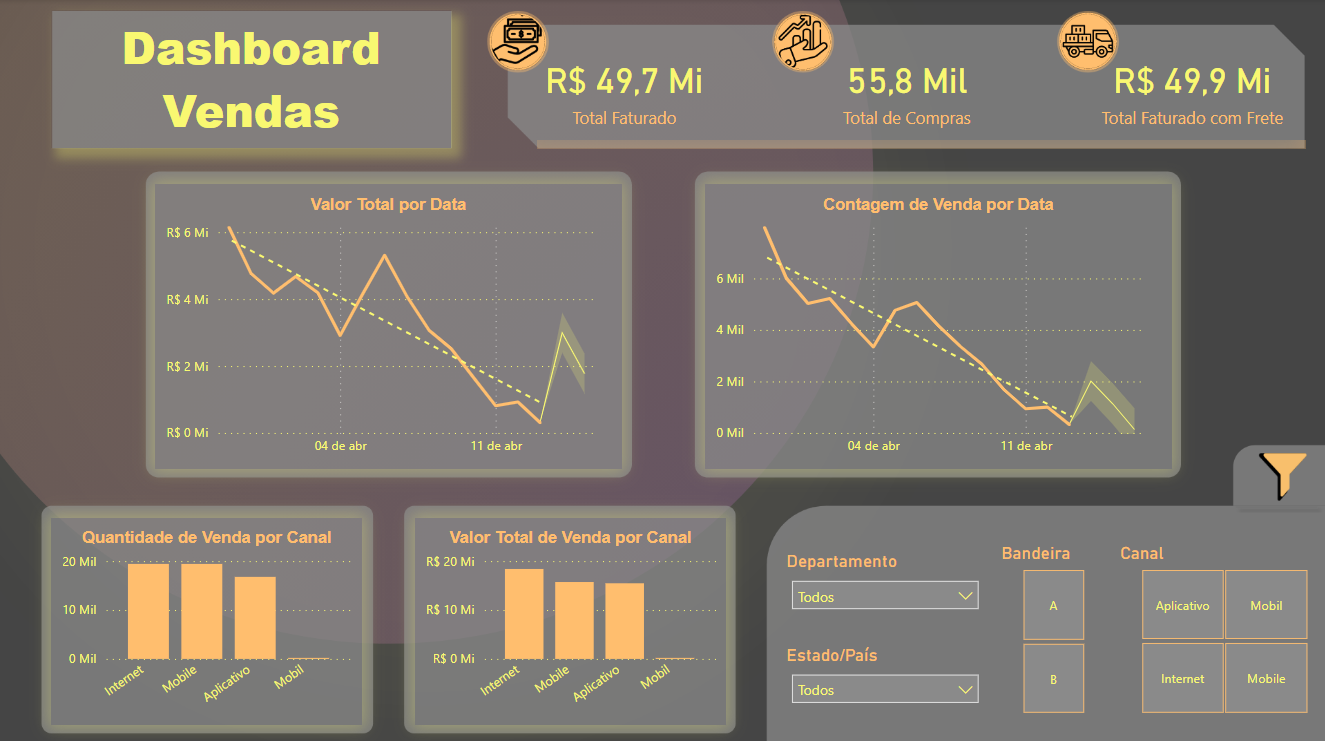

The dashboard page shown, as its layout file describes it:
{"tool":"powerbi","page":{"name":"Vendas","canvas":[1280,720],"ordinal":0},"visuals":[{"type":"card","fields":{"Values":["Sum(BD - Compras.Preço)"]},"box":[502.9,37.4,199,100.1],"z":0},{"type":"slicer","title":"Estado/País","fields":{"Values":["BD - Compras.estado"]},"box":[753.8,617.5,200.2,79.6],"z":1000},{"type":"card","fields":{"Values":["Sum(BD - Compras.Preço_com_frete)"]},"box":[1050,37.1,200,100],"z":2000},{"type":"lineChart","title":"Contagem de Venda por Data","fields":{"Y":["CountNonNull(BD - Compras.idcompra)"],"Category":["BD - Compras.Data.Variation.Hierarquia de datas.Ano","BD - Compras.Data.Variation.Hierarquia de datas.Mês","BD - Compras.Data.Variation.Hierarquia de datas.Dia"]},"box":[680,179,450,275],"z":3000},{"type":"lineChart","title":"Valor Total por Data","fields":{"Y":["Sum(BD - Compras.Preço)"],"Category":["BD - Compras.Data.Variation.Hierarquia de datas.Ano","BD - Compras.Data.Variation.Hierarquia de datas.Trimestre","BD - Compras.Data.Variation.Hierarquia de datas.Mês","BD - Compras.Data.Variation.Hierarquia de datas.Dia"]},"box":[150,179,450,275],"z":4000},{"type":"clusteredColumnChart","title":"Quantidade de Venda por Canal","fields":{"Y":["CountNonNull(BD - Compras.idcompra)"],"Category":["BD - Compras.idcanalvenda"]},"box":[50,501.1,300,200],"z":5000},{"type":"clusteredColumnChart","title":"Valor Total de Venda por Canal","fields":{"Category":["BD - Compras.idcanalvenda"],"Y":["Sum(BD - Compras.Preço)"]},"box":[400,500.6,300,200],"z":6000},{"type":"slicer","title":"Bandeira","fields":{"Values":["BD - Compras.bandeira"]},"box":[961.2,519.8,108.5,176.1],"z":7000},{"type":"slicer","title":"Canal","fields":{"Values":["BD - Compras.idcanalvenda"]},"box":[1075.7,520,204.3,175.7],"z":8000},{"type":"slicer","title":"Departamento","fields":{"Values":["BD - Compras.Nome_Departamento"]},"box":[753.8,527,200.2,76],"z":9000},{"type":"card","fields":{"Values":["Count(BD - Compras.idcompra)"]},"box":[775.5,37.4,199,100.1],"z":10000},{"type":"shape","box":[518.6,135.7,741.4,8.6],"z":11000},{"type":"shape","box":[1182.9,480.7,97.1,14.3],"z":12000},{"type":"textbox","box":[50,11.4,385.7,132.9],"z":13000}]}

Visuals, with their boxes in screenshot pixels (x1, y1, x2, y2), scaled from the page's 1280x720 canvas onto the 1325x741 screenshot:
card - Sum(BD - Compras.Preço): [521,38,727,142]
"Estado/País" slicer: [780,636,988,717]
card - Sum(BD - Compras.Preço_com_frete): [1087,38,1294,141]
"Contagem de Venda por Data" lineChart: [704,184,1170,467]
"Valor Total por Data" lineChart: [155,184,621,467]
"Quantidade de Venda por Canal" clusteredColumnChart: [52,516,362,722]
"Valor Total de Venda por Canal" clusteredColumnChart: [414,515,725,721]
"Bandeira" slicer: [995,535,1107,716]
"Canal" slicer: [1114,535,1324,716]
"Departamento" slicer: [780,542,988,621]
card - Count(BD - Compras.idcompra): [803,38,1009,142]
shape: [537,140,1304,149]
shape: [1224,495,1324,509]
textbox: [52,12,451,149]
